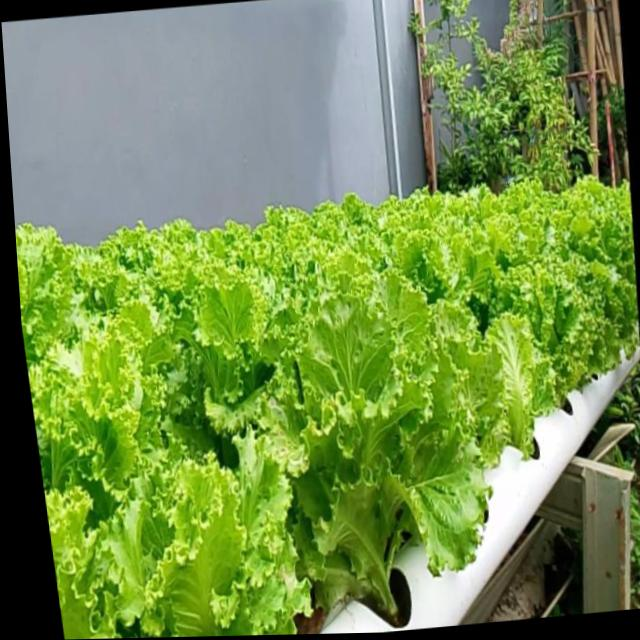Mature: (16, 180, 640, 640), (267, 292, 491, 633), (501, 261, 614, 432)
